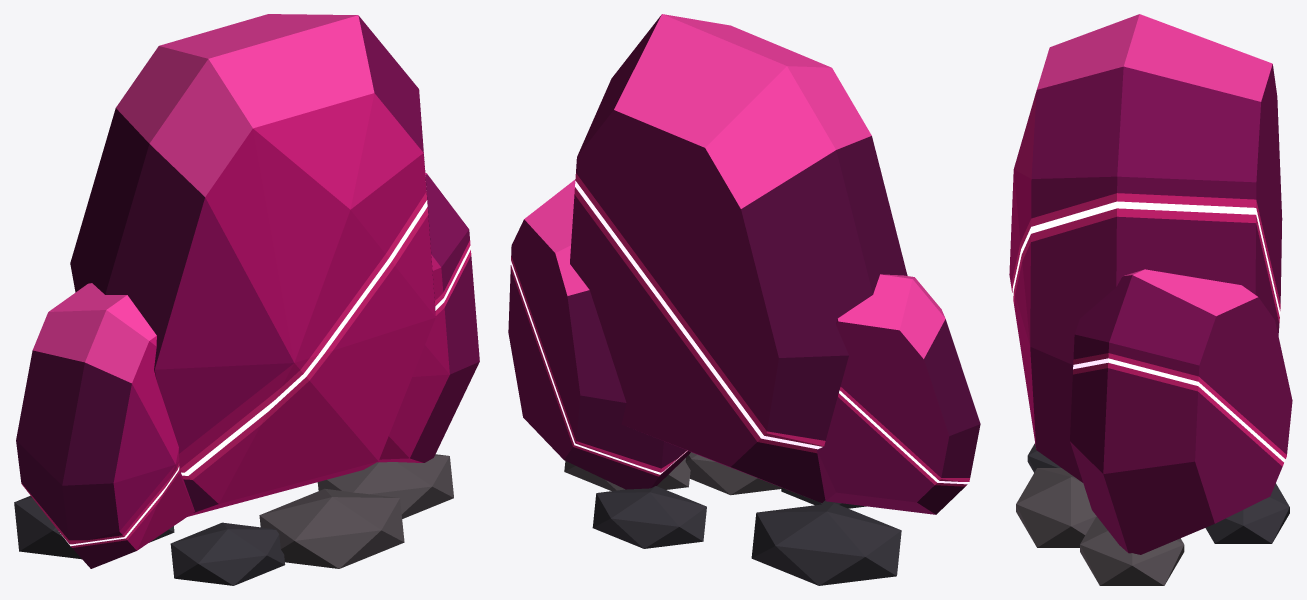
File: cluster.fbx
3 views of the same model, side by side, from view 1: azimuth 30°, elevation 25°; view 2: azimuth 150°, elevation 25°; view 3: azimuth 270°, elevation 25° (orthographic). The views are drawn at different scales.
Parts seen in each view (by area): view 1: ClusterBody, ClusterVein; view 2: ClusterBody, ClusterVein; view 3: ClusterBody, ClusterVein.
Part boxes in pixels (x1,y1,x2,y2): ClusterBody: [14, 14, 479, 585]; ClusterVein: [60, 200, 470, 546]; ClusterBody: [508, 14, 980, 585]; ClusterVein: [511, 181, 969, 484]; ClusterBody: [1009, 14, 1292, 585]; ClusterVein: [1012, 201, 1285, 462].
Size of the model in its own units: 282 by 308 by 158.
Materials: 2 (1 with a texture image).
